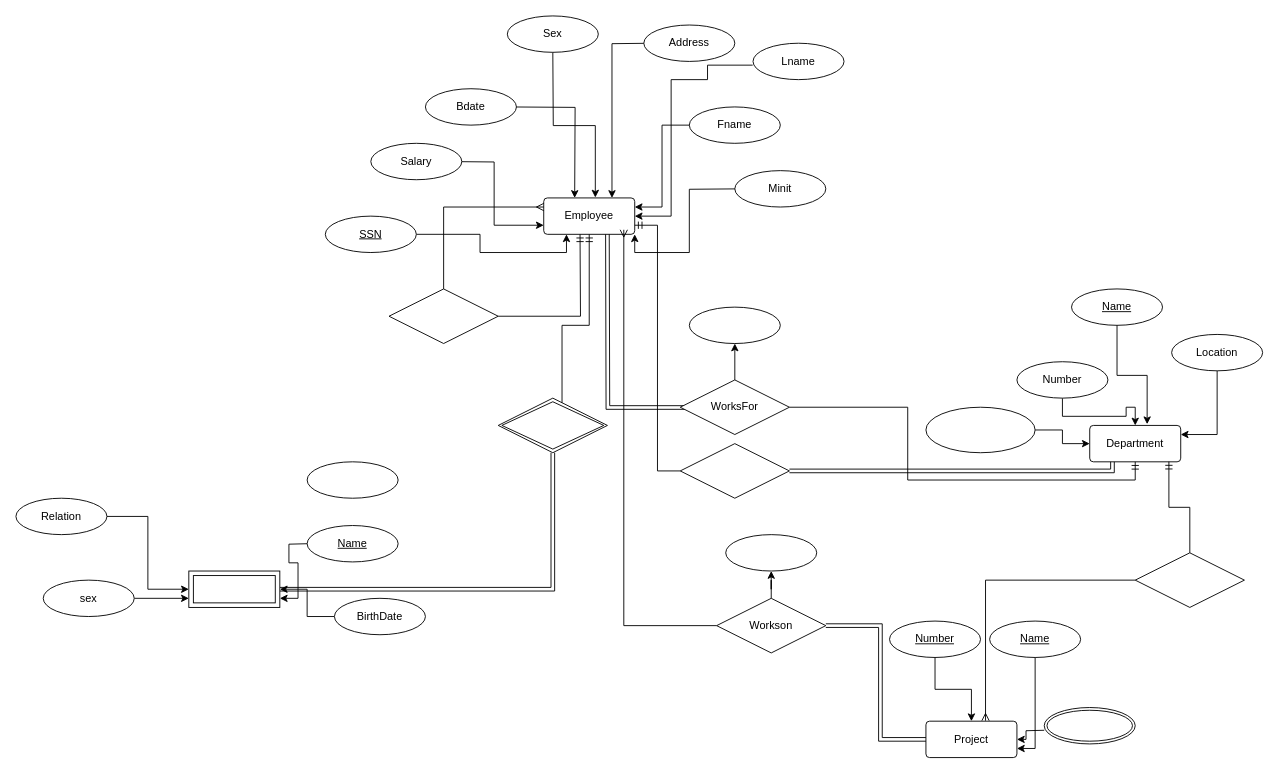
The diagram is 1279 pixels wide and 774 high, and some of its shapes have lost their labels. Here are the shapes that lost their labels. From the top down, the centre of each, then its label:
At [443,316]: "Supervise".
At [734,325]: "StartDate".
At [552,425]: "has".
At [980,429]: "NumberOfEmployee".
At [352,479]: "Attribute".
At [734,470]: "Manage".
At [771,552]: "Hours_Logged".
At [234,588]: "Dependent".
At [1189,579]: "Control".
At [1089,725]: "Locations".
